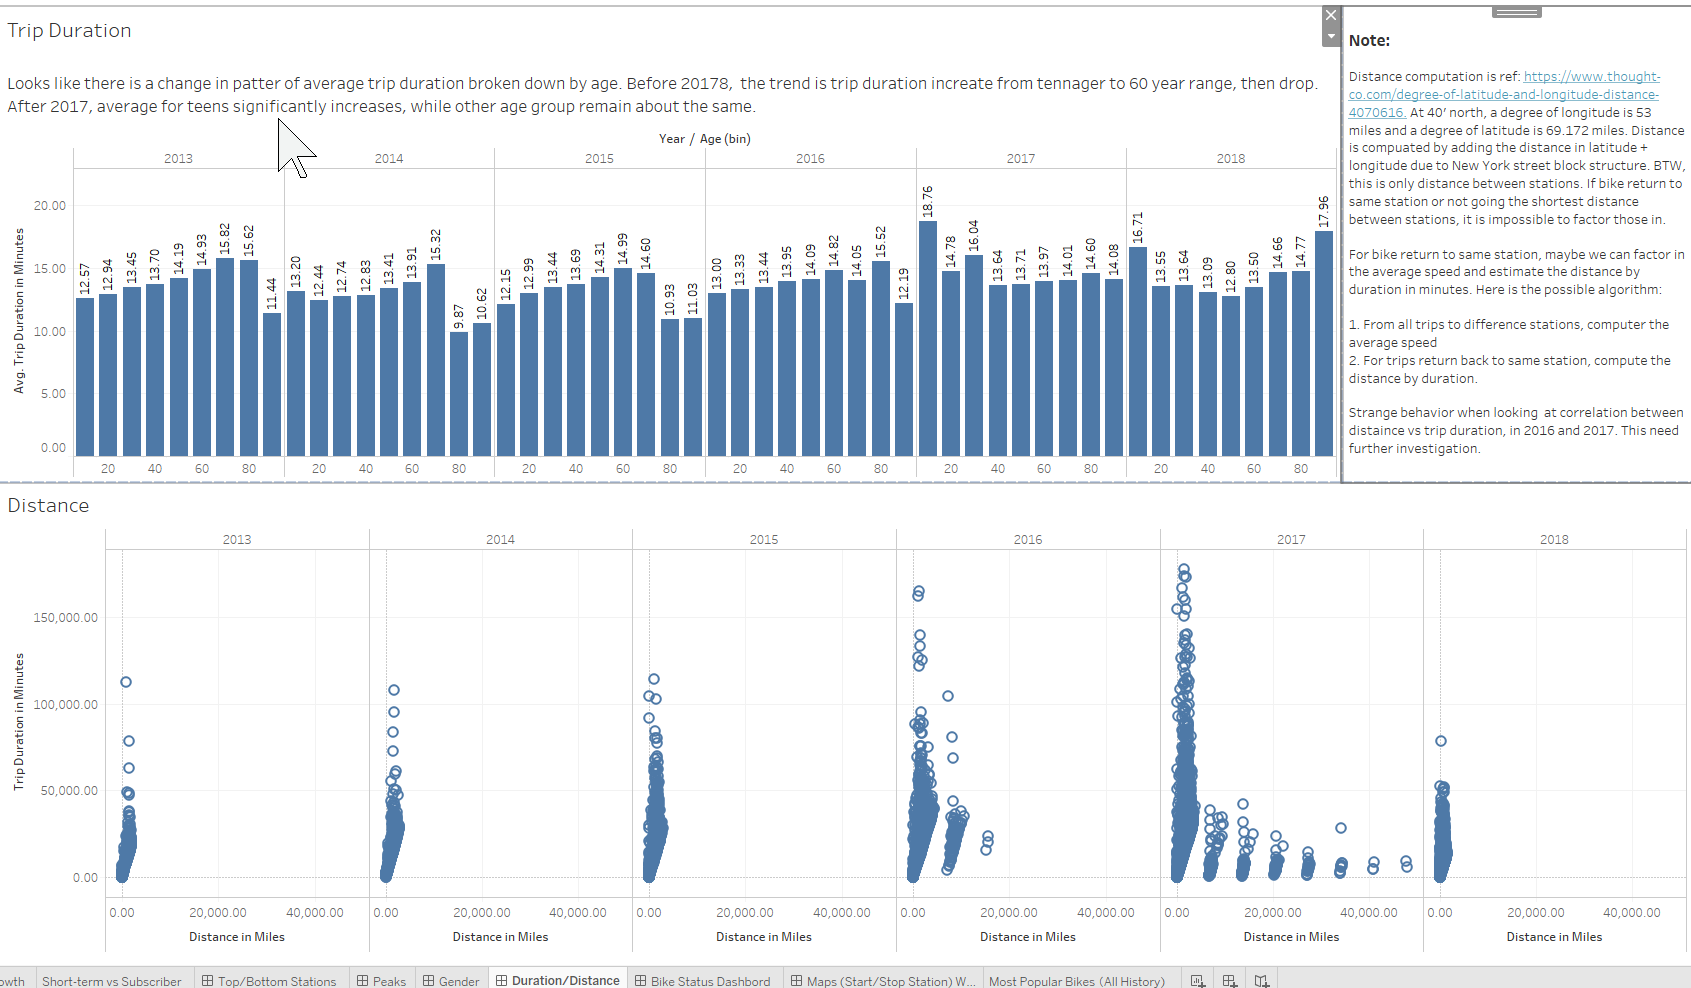

The dashboard page shown, as its layout file describes it:
{"tool":"tableau","page":{"name":"Duration/Distance","canvas":[1000,1000],"units":"permille","ordinal":1},"visuals":[{"type":"worksheet","title":"Trip Duration","mark":"Bar","rows":["Calculation_2809120283182411779"],"cols":["Calculation_2809120283185610757","Age (bin)"],"box":[4.7,8.3,785.8,491.7]},{"type":"text","box":[790.5,8.3,204.8,491.7]},{"type":"worksheet","title":"Distance vs Trip Duration Correlation","mark":"Automatic","rows":["Calculation_2809120283182411779"],"cols":["Calculation_2809120283185610757","Calculation_2809120283243462680"],"box":[4.7,500,990.6,491.7]}]}

Visuals, with their boxes on the dashboard's canvas, which has no fixed pixel size, in thousandths of its width and height (x1, y1, x2, y2). These are canvas units, not pixel positions in the 1691x988 screenshot, which may show the page scaled, cropped or inside an application window:
"Trip Duration" worksheet (Bar marks): {"x1": 5, "y1": 8, "x2": 790, "y2": 500}
text: {"x1": 790, "y1": 8, "x2": 995, "y2": 500}
"Distance vs Trip Duration Correlation" worksheet: {"x1": 5, "y1": 500, "x2": 995, "y2": 992}
